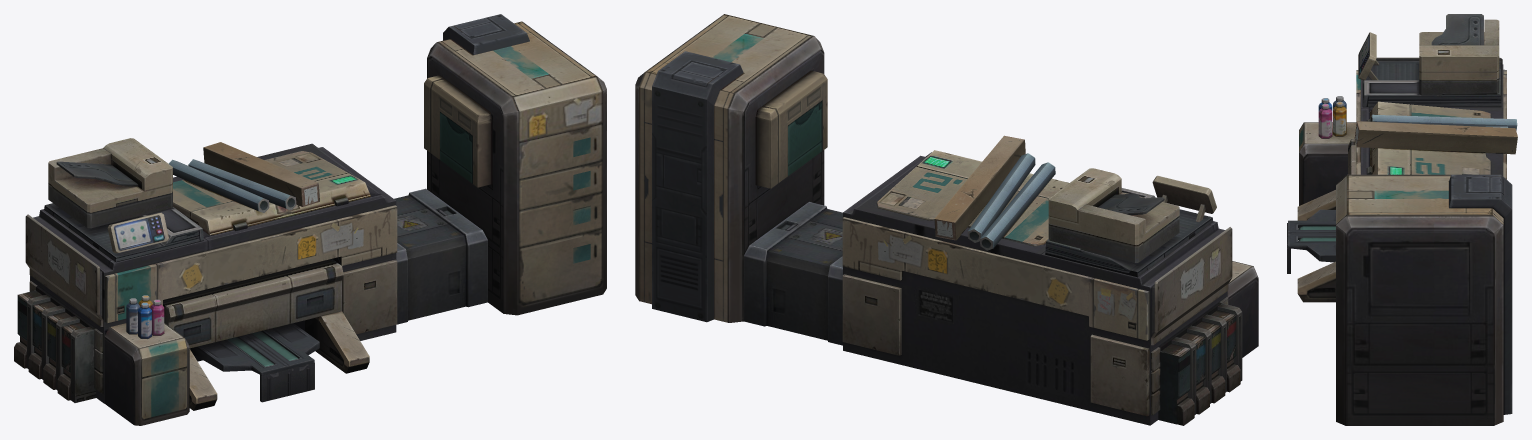
Rendered from mf_blueprintprinter005.FBX.
3 renders of one model, left to right at view 1: azimuth 30°, elevation 25°; view 2: azimuth 150°, elevation 25°; view 3: azimuth 270°, elevation 25°, orthographic. The views are drawn at different scales.
Parts seen in each view (by area): view 1: mf_blueprintprinter005; view 2: mf_blueprintprinter005; view 3: mf_blueprintprinter005.
Boxes of the visible parts, <box> form: mf_blueprintprinter005: <box>14,14,606,425</box>; mf_blueprintprinter005: <box>635,14,1258,425</box>; mf_blueprintprinter005: <box>1287,14,1517,425</box>.
Bounding box in the file's own units: 4.68 × 1.92 × 1.87.
